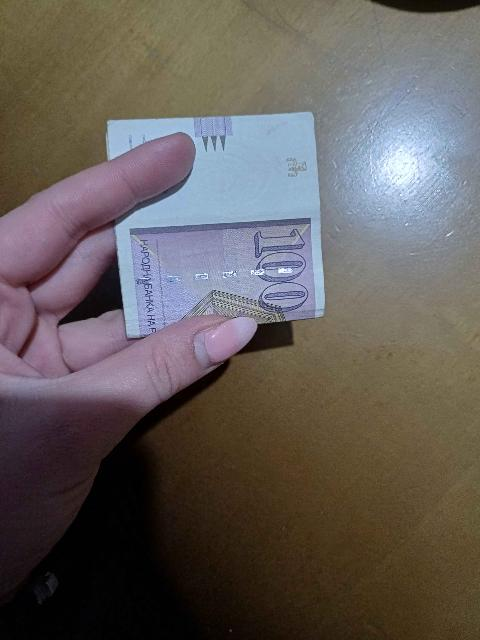note: (104, 111, 326, 343)
